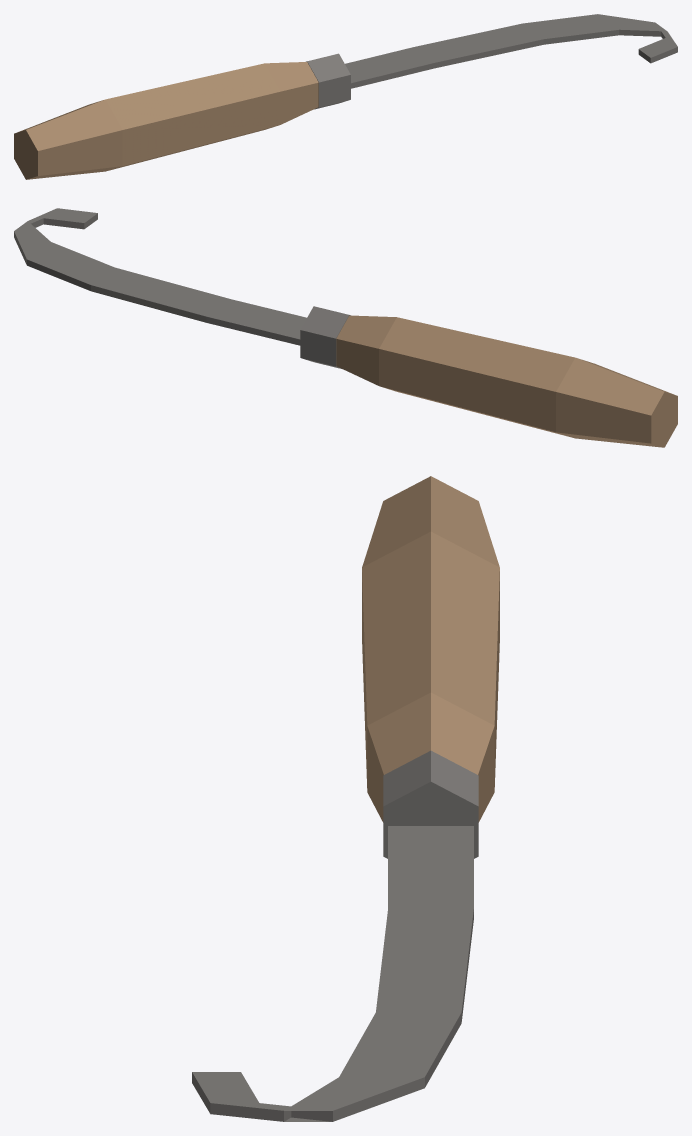
Rendered from prop-hoof-knife.fbx.
The picture shows the model from 3 angles, top to bottom: view 1: azimuth 30°, elevation 25°; view 2: azimuth 150°, elevation 25°; view 3: azimuth 270°, elevation 25°; orthographic projection. The views are drawn at different scales.
Visible parts, largest first — view 1: prop-hoof-knife; view 2: prop-hoof-knife; view 3: prop-hoof-knife.
Boxes of the visible parts, left/top/right/bottom form: prop-hoof-knife: left=14, top=14, right=677, bottom=179; prop-hoof-knife: left=14, top=208, right=677, bottom=447; prop-hoof-knife: left=192, top=476, right=499, bottom=1121.
Bounding box in the file's own units: 0.228 × 0.026 × 0.0503.
